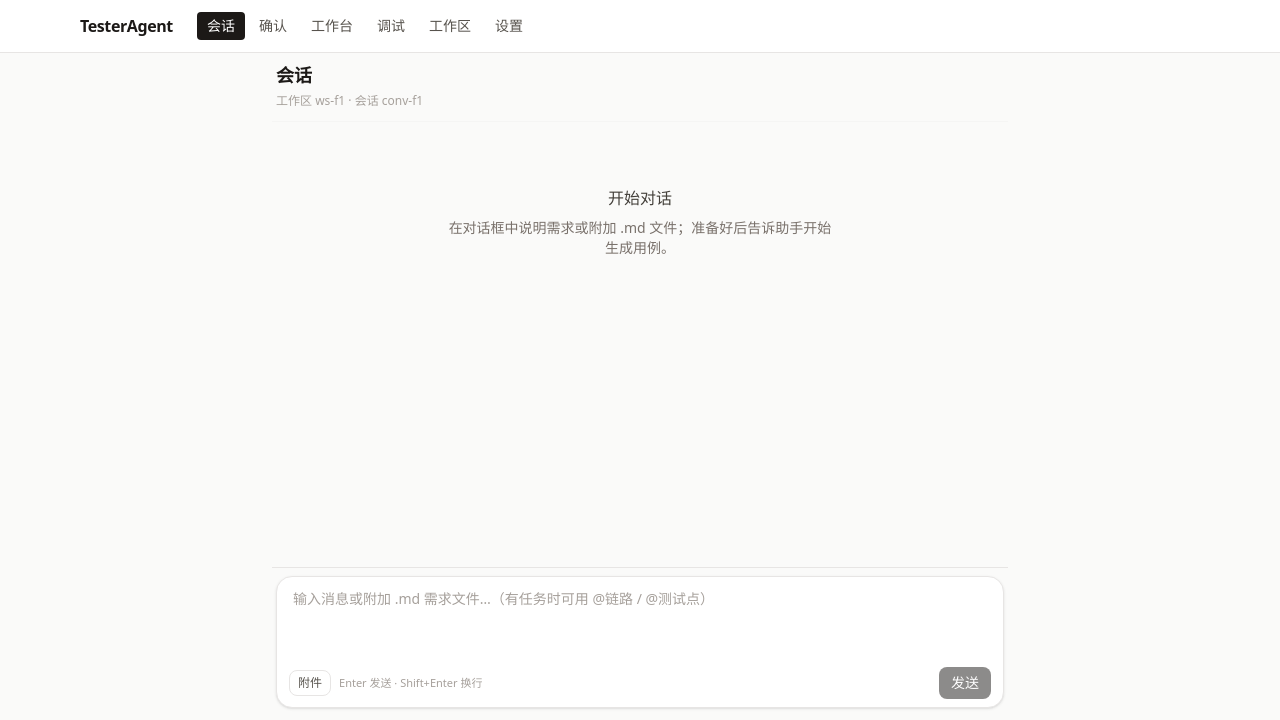
it: WP-F1 ChatPage › 自由对话发送 chat 消息并展示回复
Check: the element with test id "chat-page" is shown, box left=272, top=53, right=1008, bottom=719
Check: the element with test id "composer" is shown, box left=272, top=567, right=1008, bottom=719
Type "这个需求怎么拆？" into the text box with test id "composer-input" at (640, 621), box left=289, top=585, right=991, bottom=657
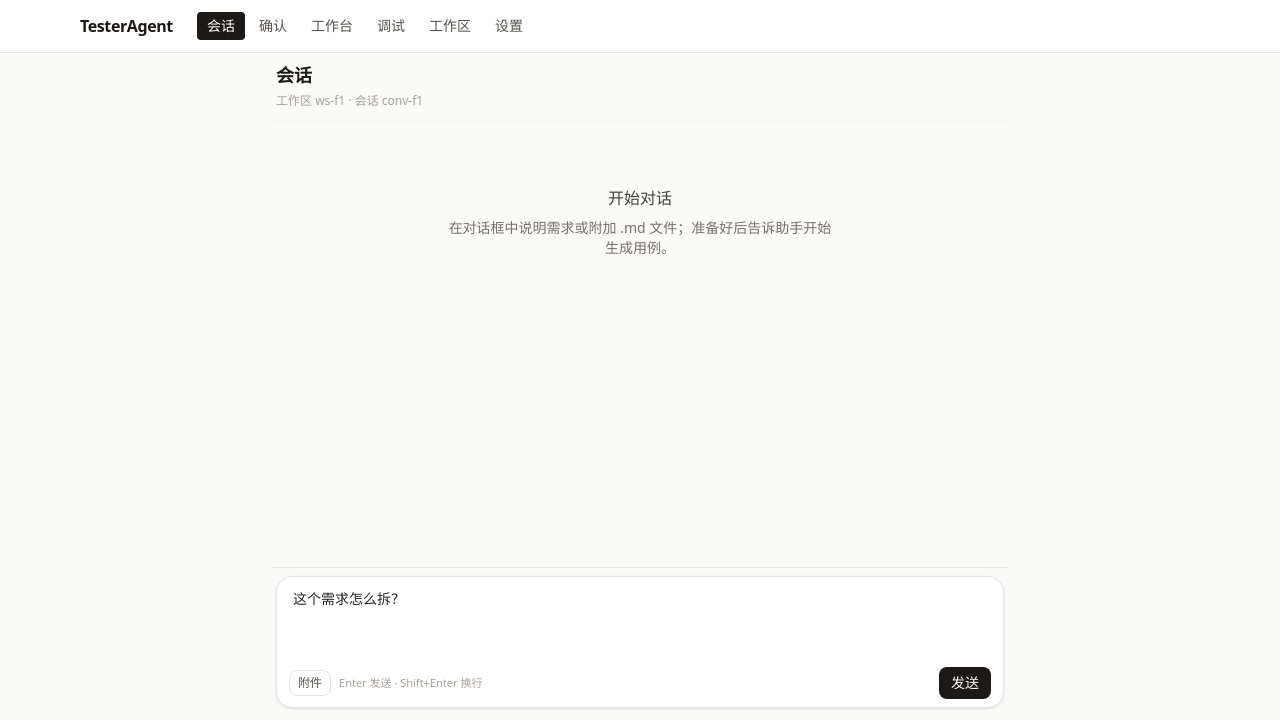
Click the button with test id "composer-send" at (965, 683), box left=939, top=667, right=991, bottom=699
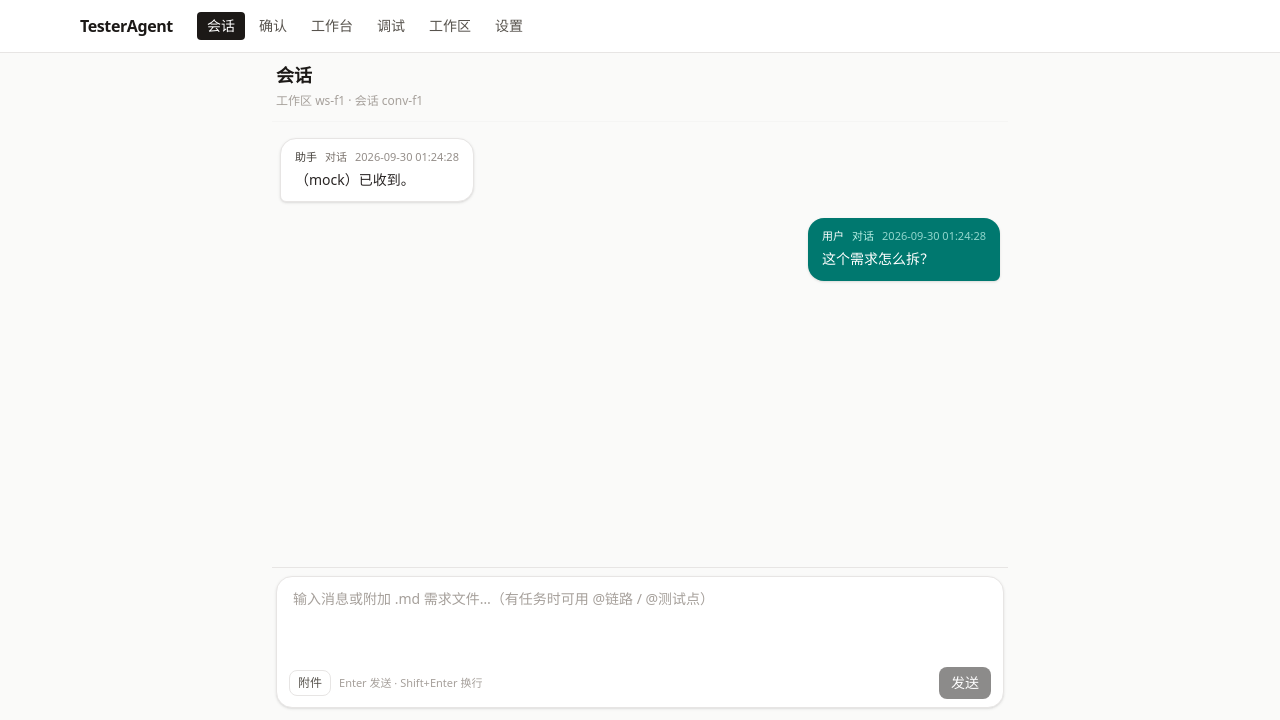
Check: the list with test id "message-list" shows "这个需求怎么拆？", box left=822, top=249, right=934, bottom=268
Check: the list with test id "message-list" shows "（mock）已收到。", box left=295, top=170, right=415, bottom=189
